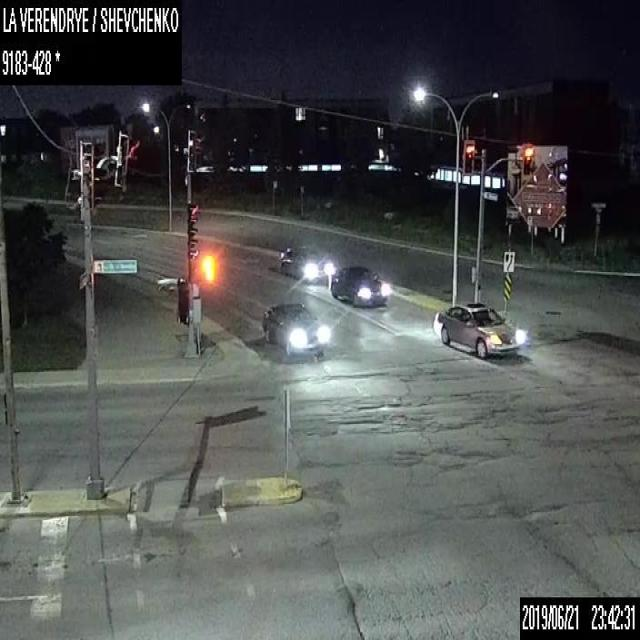vehicle: (431, 297, 523, 359), (262, 302, 328, 357), (329, 264, 389, 306), (278, 242, 334, 282)
